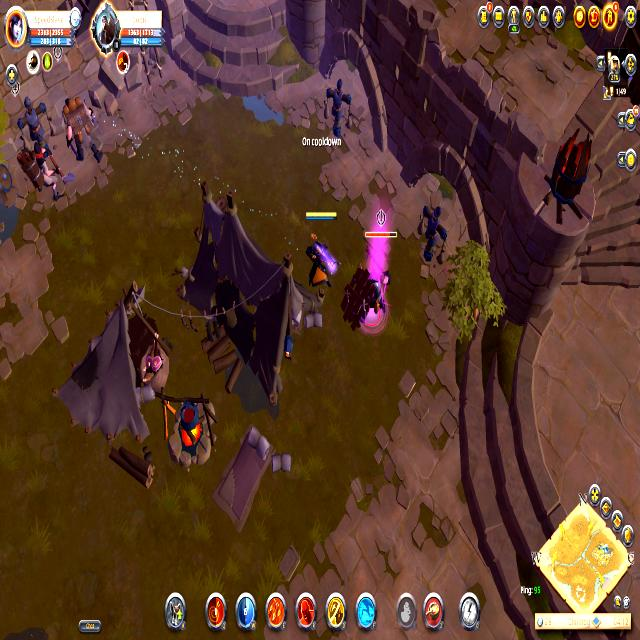ore: (344, 206, 401, 338), (13, 134, 68, 208), (58, 90, 108, 171)
red: (301, 208, 339, 295)
